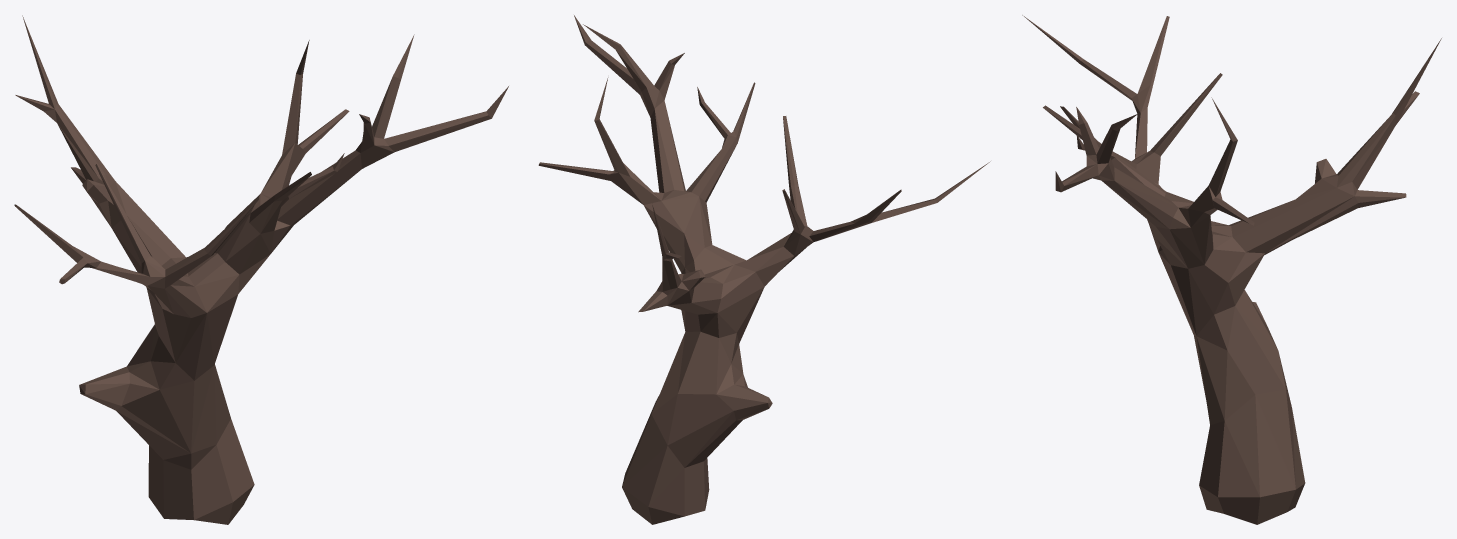
3 views of the same model, side by side, from view 1: azimuth 30°, elevation 25°; view 2: azimuth 150°, elevation 25°; view 3: azimuth 270°, elevation 25° (orthographic). The views are drawn at different scales.
Visible parts, largest first — view 1: dead-tree-2; view 2: dead-tree-2; view 3: dead-tree-2.
Boxes of the visible parts, bbox=[...] form: dead-tree-2: bbox=[14, 15, 508, 524]; dead-tree-2: bbox=[538, 15, 990, 524]; dead-tree-2: bbox=[1022, 15, 1441, 524].
Size of the model in its own units: 6 by 6 by 4.8.
